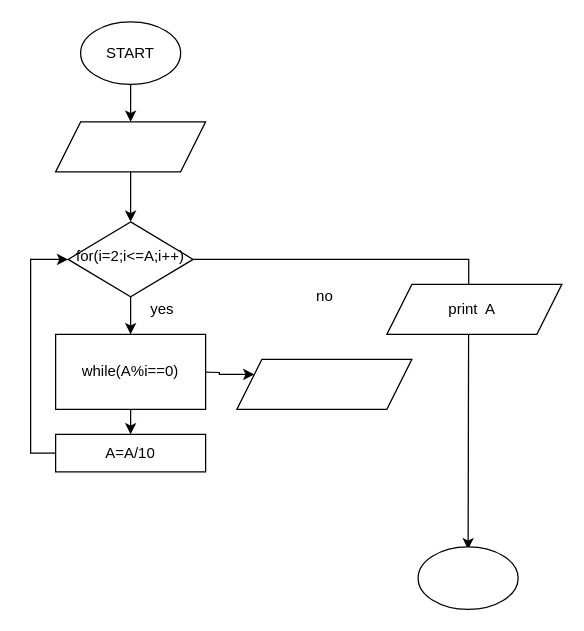
Image size: 584x631. Some labels were removed from this diagram. Here are the shapes that lost their labels. From the top down, the box of each, then its label:
(54, 121, 206, 172): read A
(236, 358, 412, 409): print i
(417, 546, 518, 609): STOP
